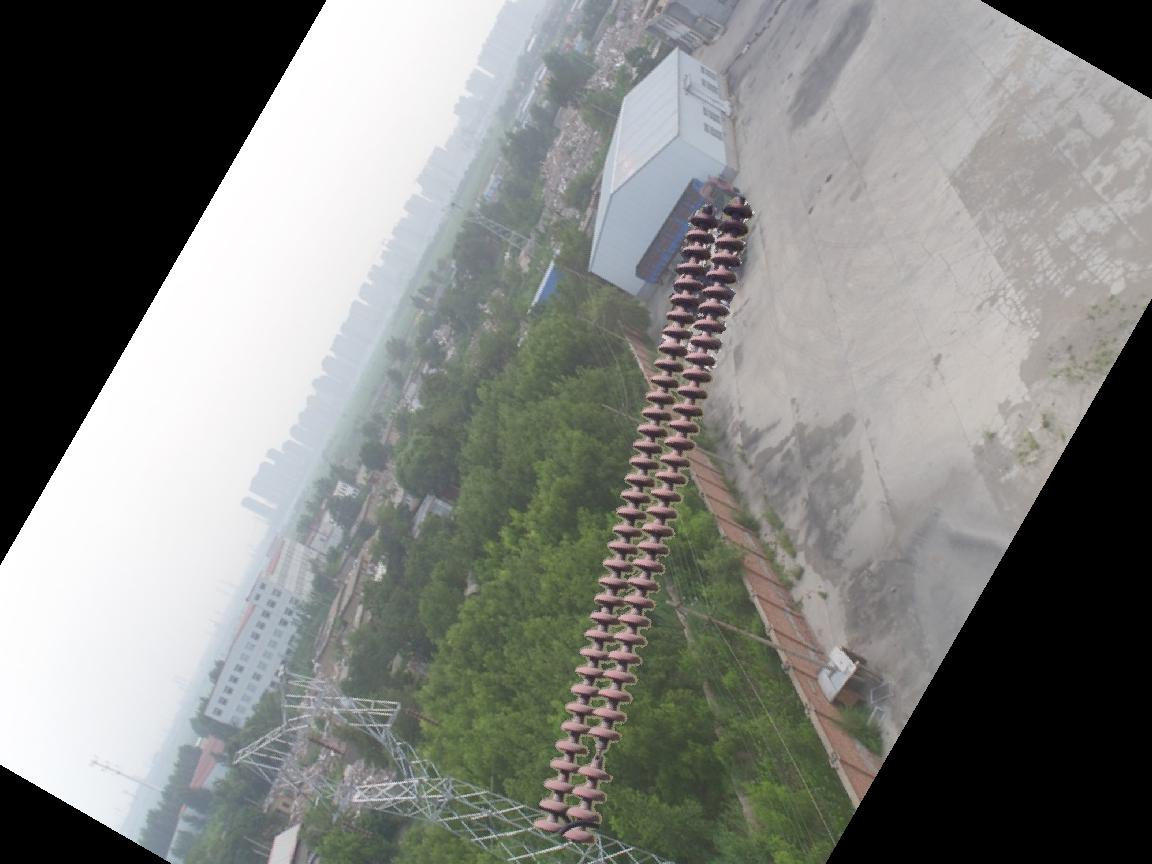insulator: (527, 192, 759, 847)
insulator_stringdrop: (575, 726, 624, 784)
